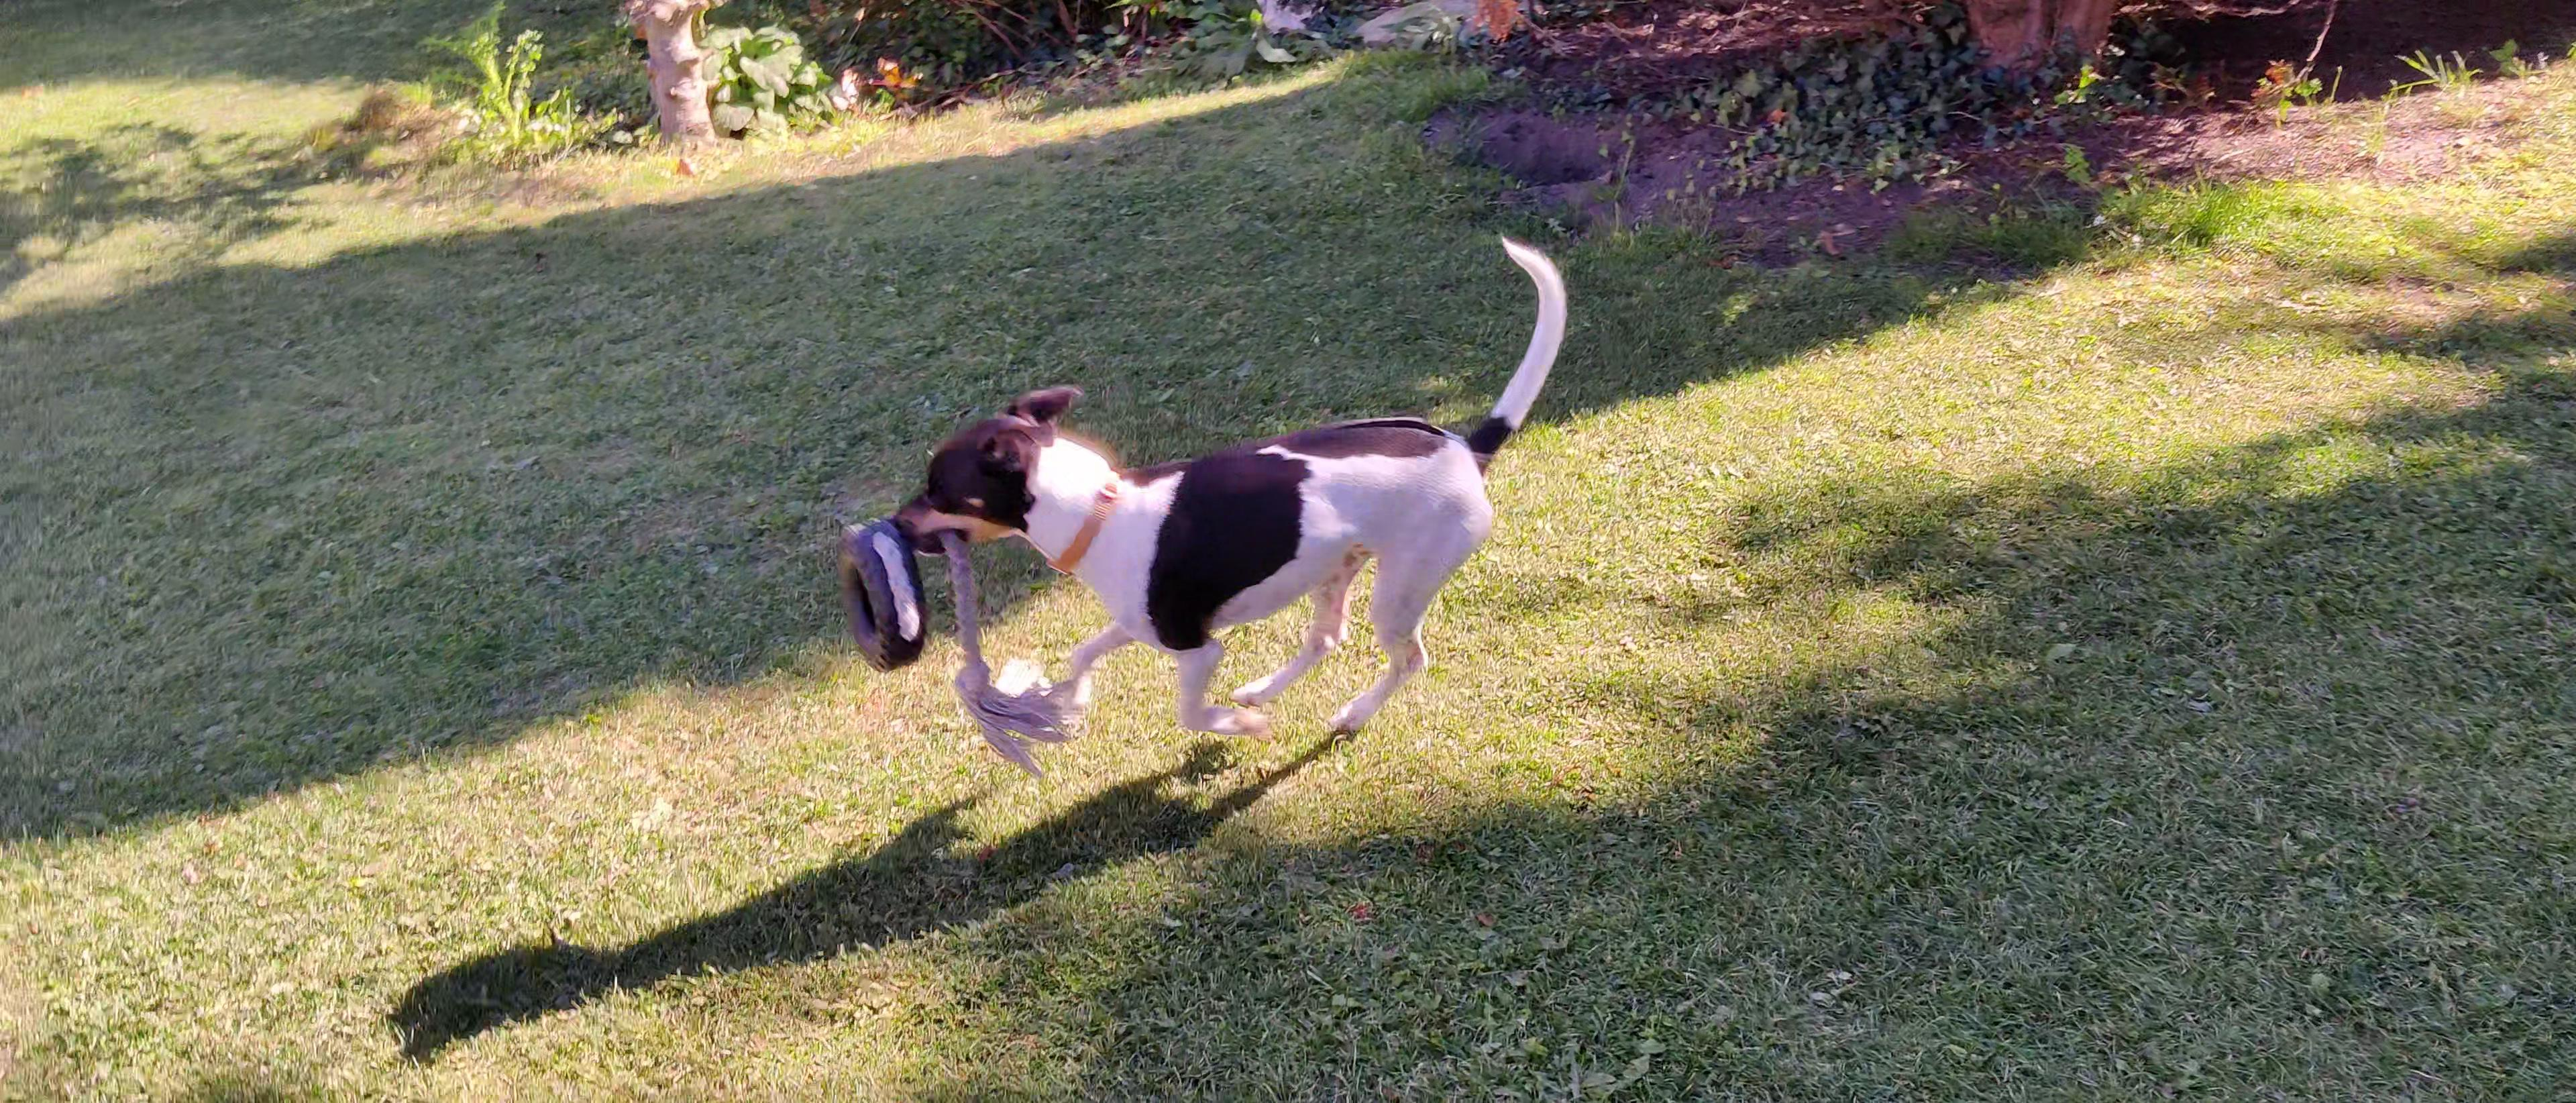Dog: (885, 224, 1577, 746)
